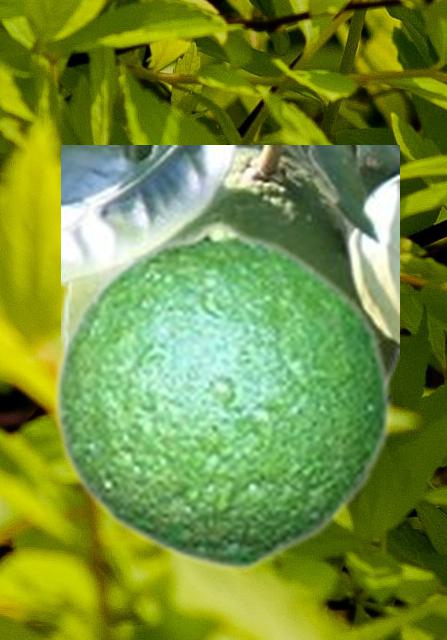dalandan: (50, 219, 392, 571), (61, 145, 398, 385)
